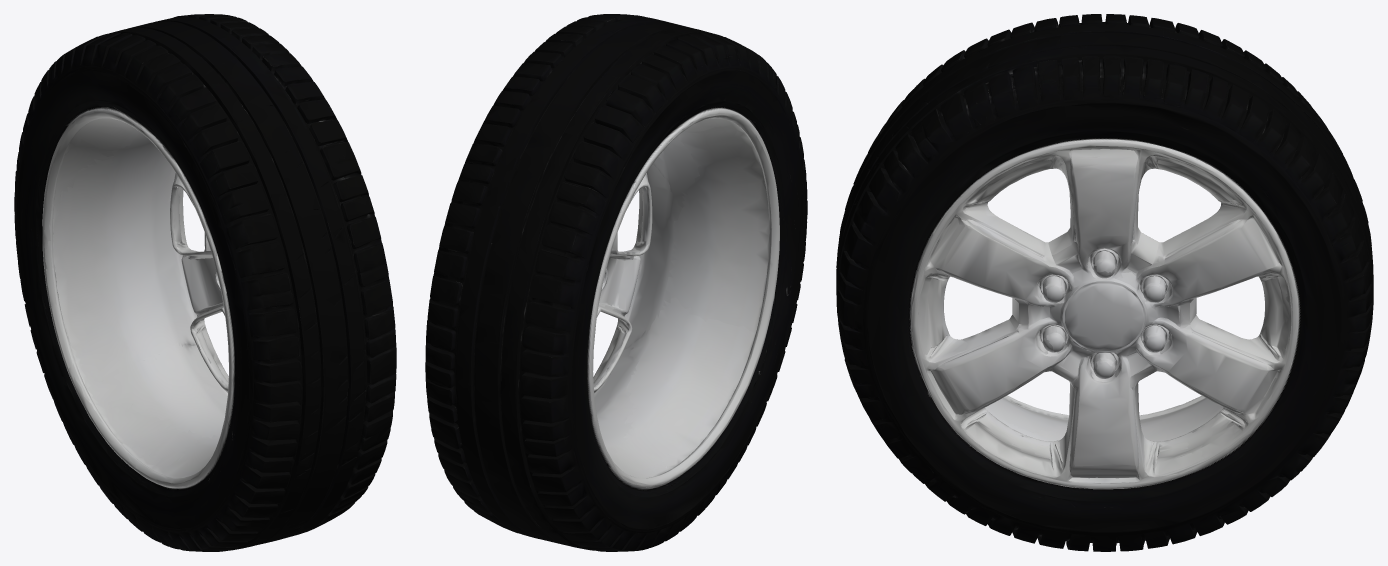
File: wheel_truck.glb
3 renders of one model, left to right at view 1: azimuth 30°, elevation 25°; view 2: azimuth 150°, elevation 25°; view 3: azimuth 270°, elevation 25°, orthographic.
Parts seen in each view (by area): view 1: material; view 2: material; view 3: material.
Boxes of the visible parts, box(x1,y1,x2,y2) form: material: box(14, 14, 396, 551); material: box(425, 14, 807, 551); material: box(836, 14, 1373, 551).
Size of the model in its own units: 0.3259 by 0.9998 by 0.9993.
Materials: 1 (1 with a texture image).
